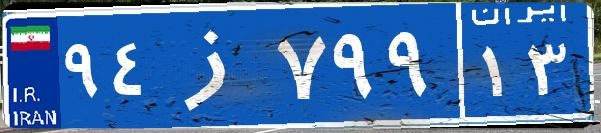1: (475, 38, 525, 113)
3: (525, 38, 570, 115)
4: (110, 28, 158, 105)
7: (273, 28, 330, 110)
9: (385, 28, 445, 110), (330, 28, 385, 110), (57, 26, 110, 107)
ز: (158, 15, 273, 115)
